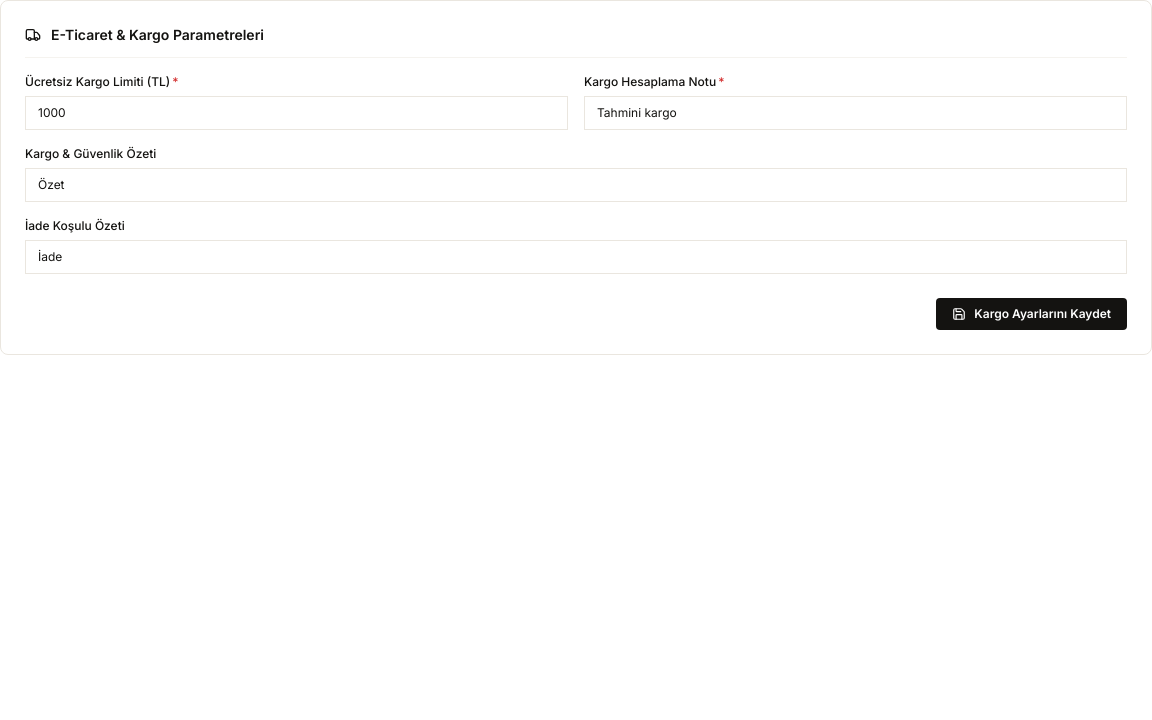
Admin Settings Tab Components (Phase 3.10) › AdminCommerceSettingsTab › handles commerce update error
Click the button "Kargo Ayarlarını Kaydet" at [1032, 314], box [936,298,1127,330]
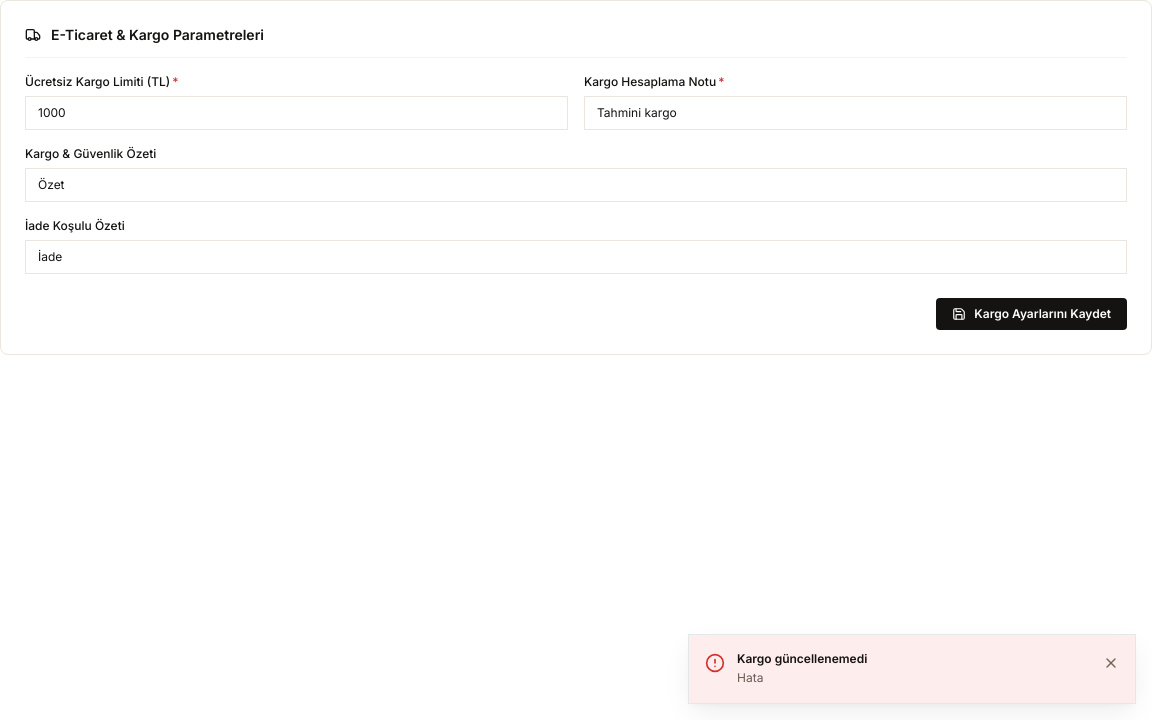
Result: the heading "Kargo güncellenemedi" is shown at [737,650,867,666]
